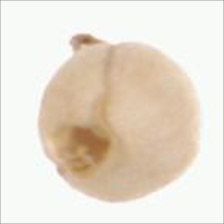L3: (54, 123, 109, 175)
L4: (36, 38, 201, 202)
